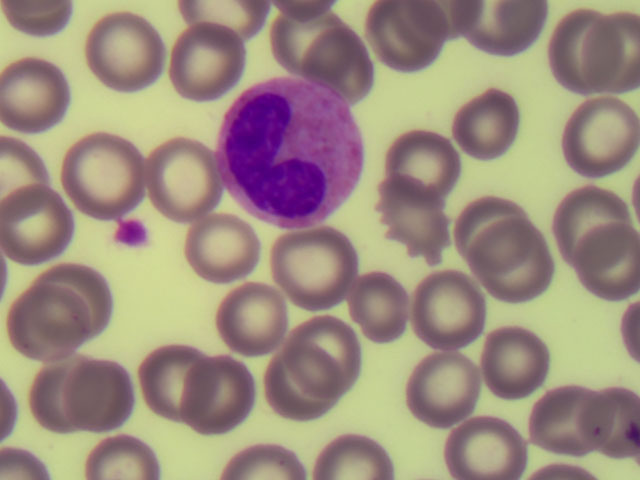Platelets: (111, 214, 150, 249)
RBC: (444, 414, 530, 480), (87, 15, 160, 92), (167, 21, 240, 98), (148, 137, 221, 214), (69, 134, 142, 211), (43, 247, 116, 324), (9, 287, 82, 364), (12, 358, 85, 435), (61, 355, 134, 432), (136, 341, 209, 418), (179, 358, 252, 435), (221, 279, 294, 356), (183, 215, 256, 292), (279, 226, 352, 303), (348, 266, 421, 343), (298, 313, 371, 390), (253, 352, 326, 429), (407, 270, 480, 347), (377, 188, 450, 265), (387, 121, 460, 198), (460, 78, 533, 155), (567, 96, 640, 173), (557, 169, 630, 246), (567, 226, 640, 303), (476, 239, 549, 316), (455, 180, 528, 257), (484, 320, 557, 397), (408, 348, 481, 425), (1, 55, 73, 132), (1, 193, 73, 270), (545, 15, 620, 86), (316, 35, 391, 106), (270, 5, 345, 76), (528, 385, 603, 456), (370, 1, 445, 71), (468, 1, 543, 71), (307, 433, 399, 480), (217, 433, 309, 480), (65, 433, 157, 480), (1, 2, 92, 49)
WBC: (220, 77, 364, 224)
